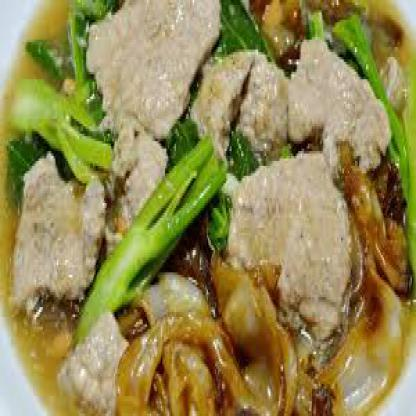Laadna: (3, 2, 409, 414)
